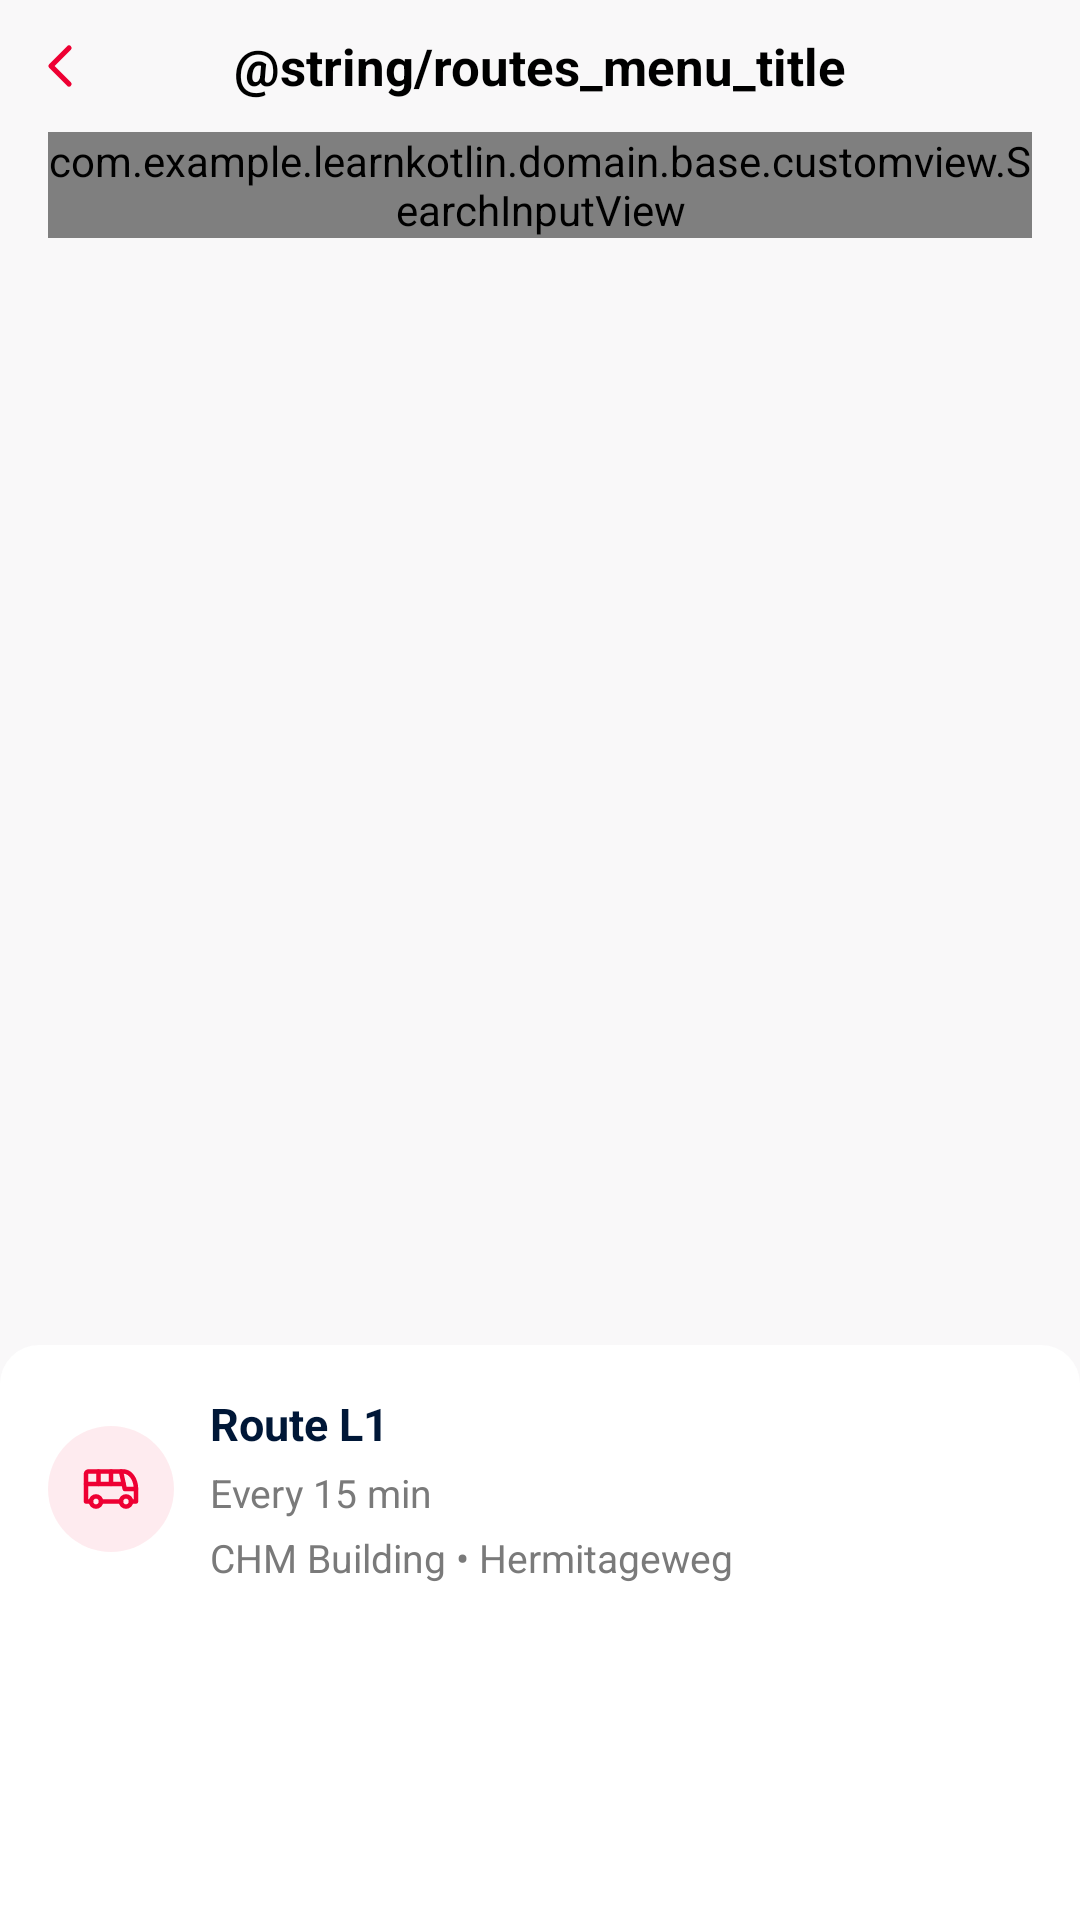

Where to tap for icons on this 1080*1920 app screen, as point (x, y):
back: point (60, 66)
vehicle: point (111, 1489)
